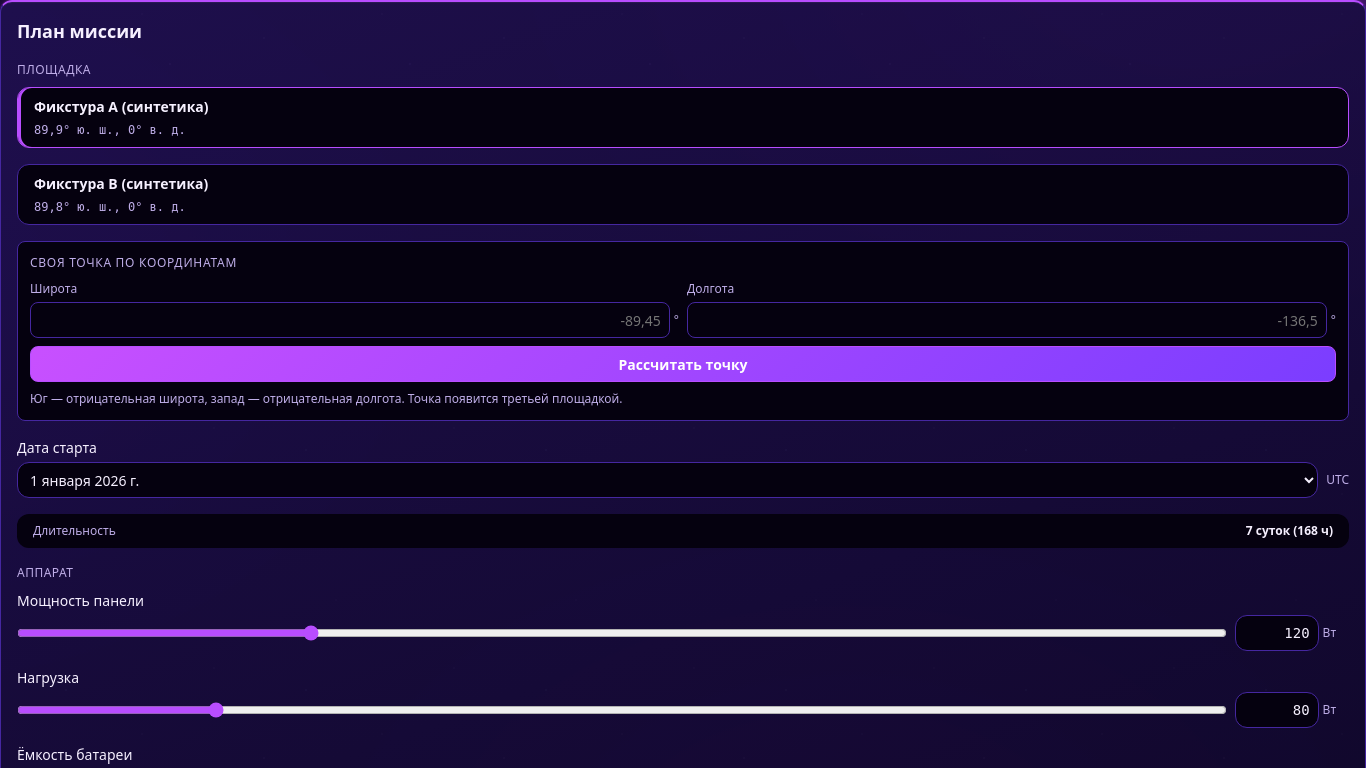
Scenario: custom point by coordinates › checks the coordinates before asking the server
The image size is (1366, 768).
Type "-95" into the field labelled "Широта" at [350, 320], box [30,302,670,338]
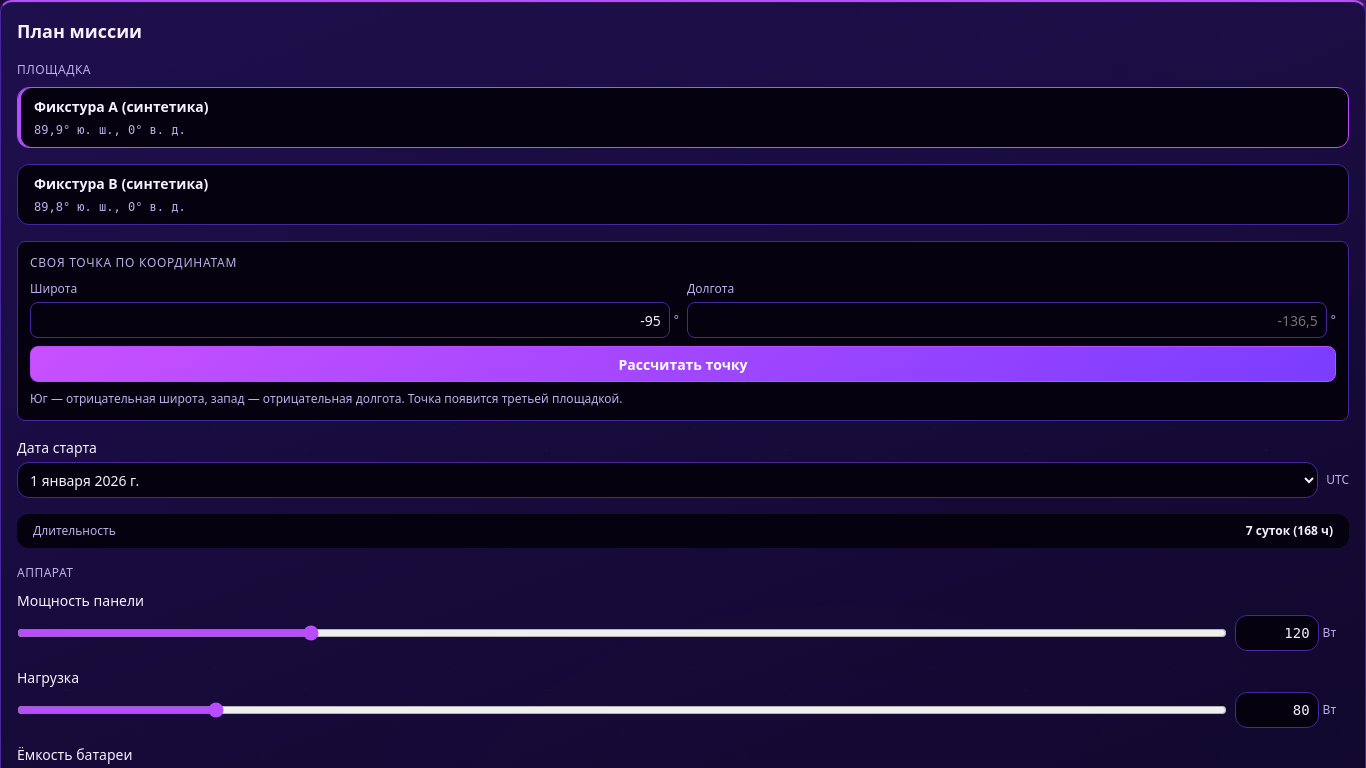
Type "восток" into the field labelled "Долгота" at [1007, 320], box [687,302,1327,338]
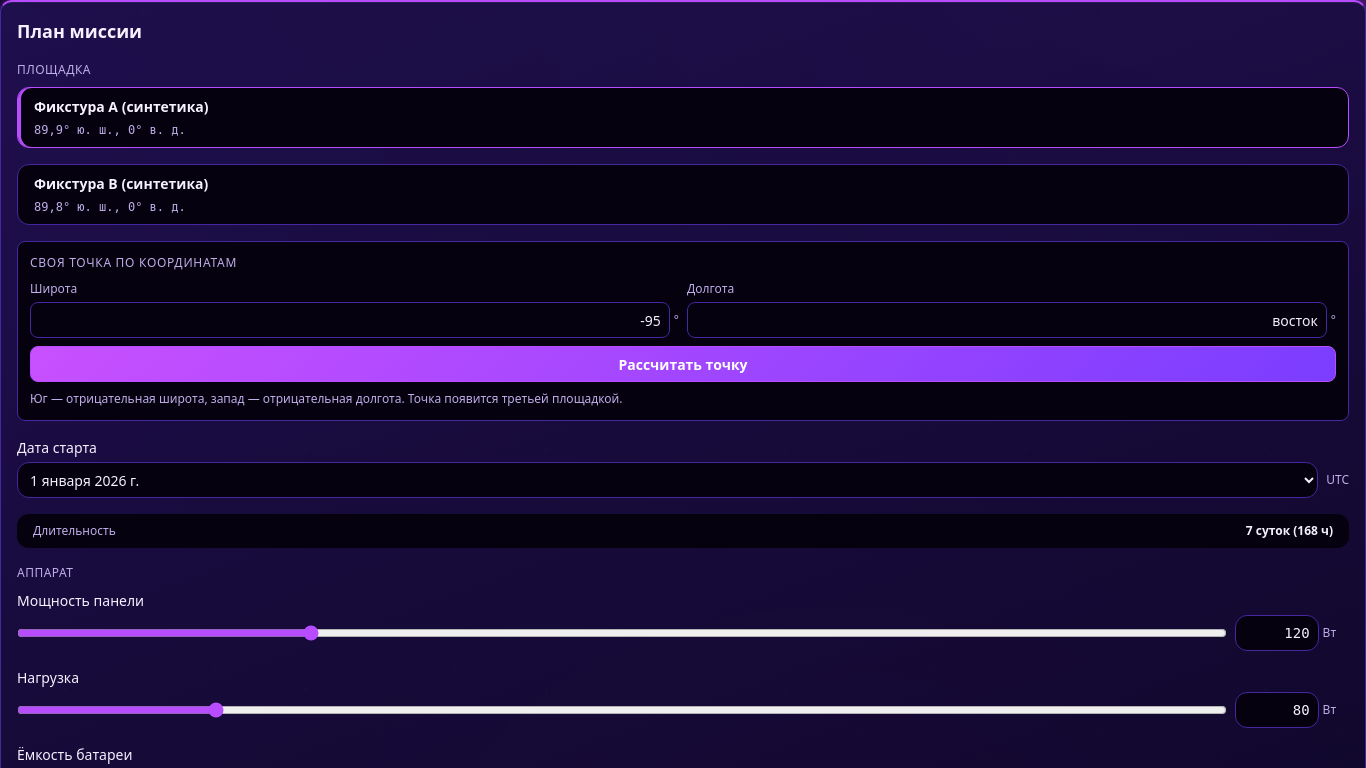
Click the button "Рассчитать точку" at [683, 364], box [30,346,1336,382]
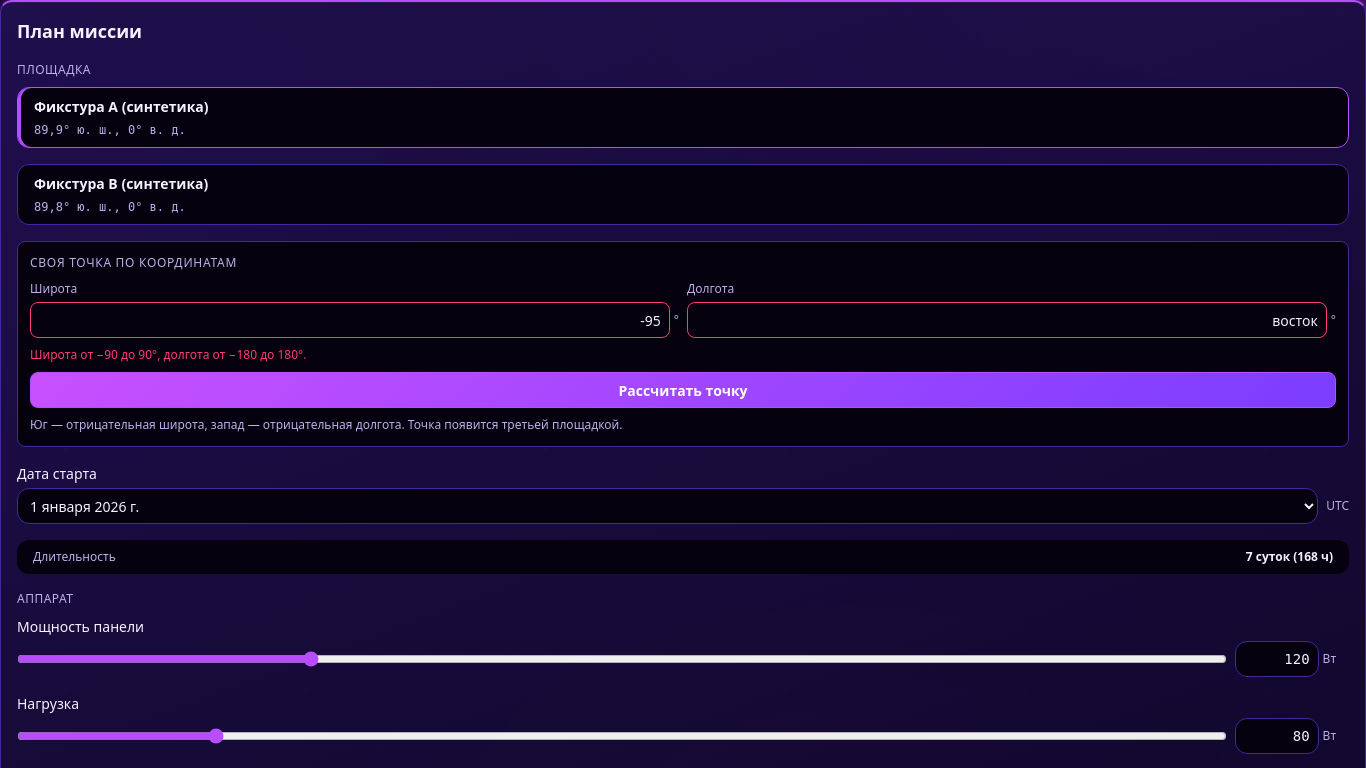
Now the text "Широта от −90 до 90°, долгота от −180 до 180°." is shown, box [30,346,306,363]
